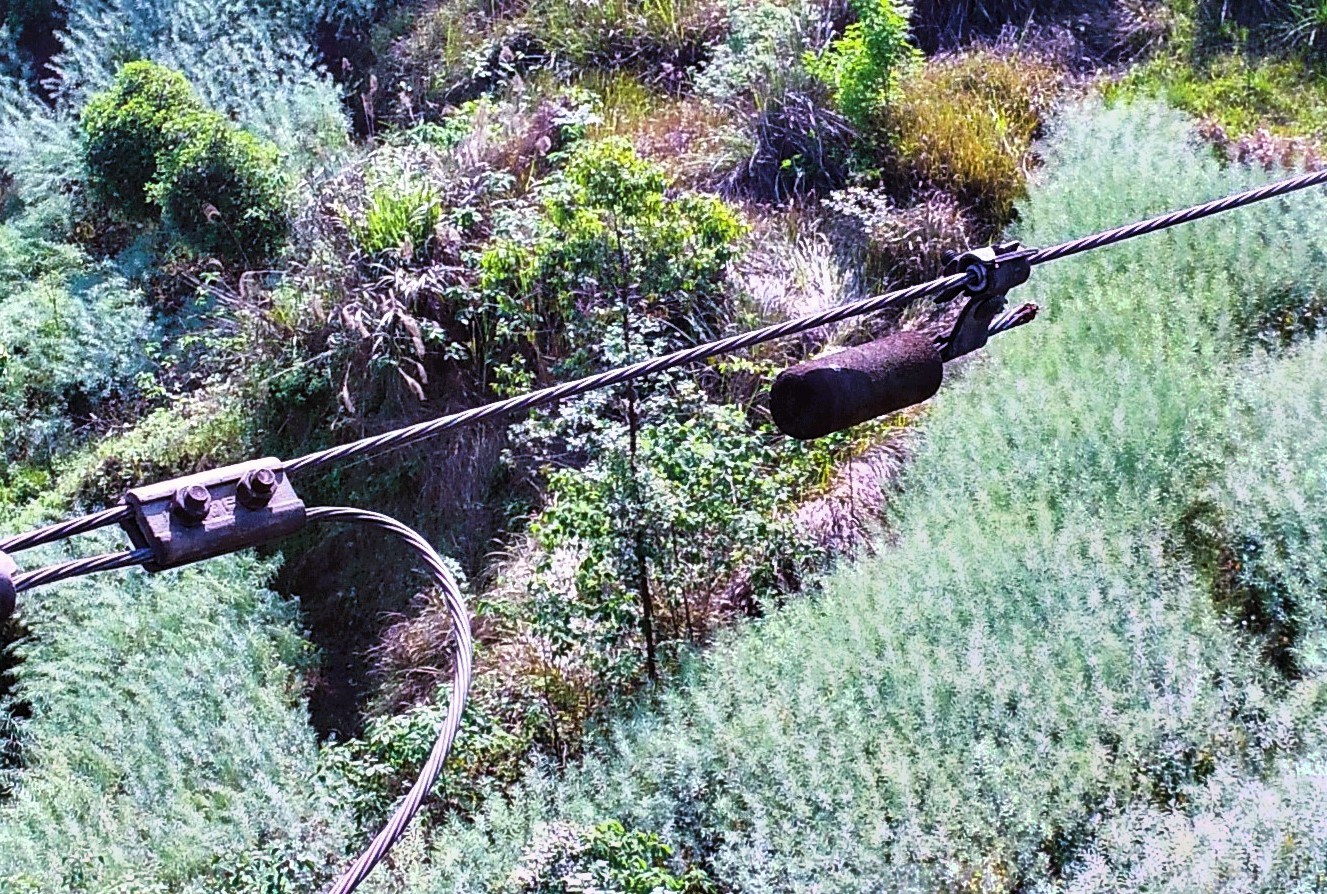Damage of shockproof hammer: (732, 214, 1074, 466)
